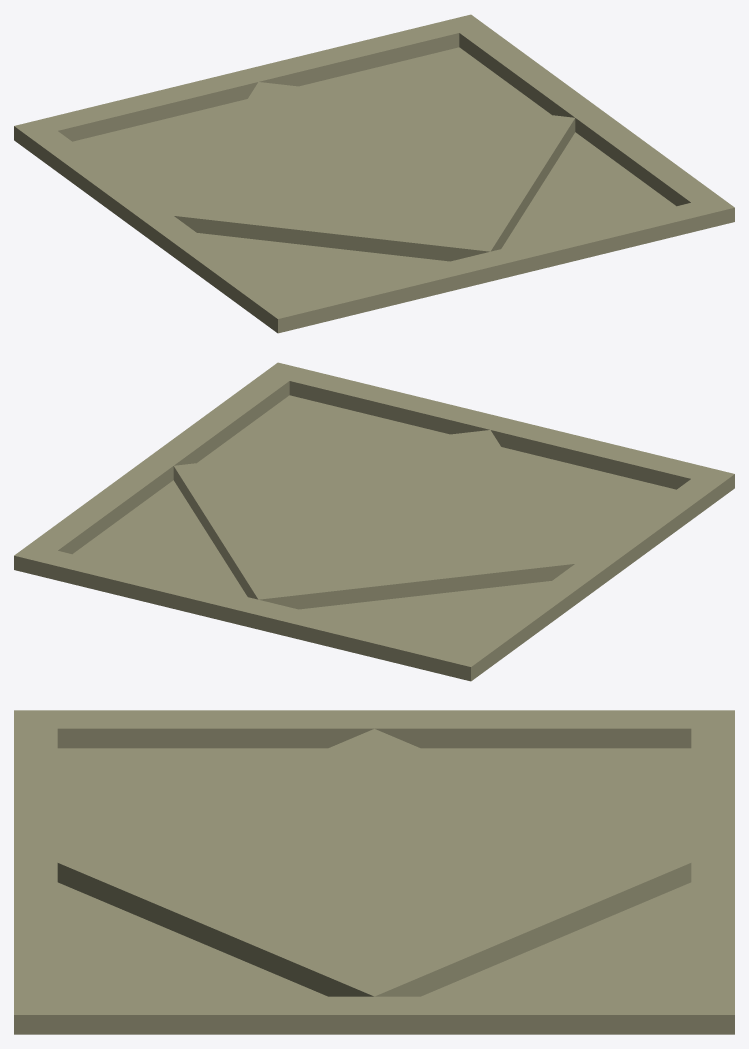
Rendered from Tile0.fbx.
3 renders of one model, top to bottom at view 1: azimuth 30°, elevation 25°; view 2: azimuth 150°, elevation 25°; view 3: azimuth 270°, elevation 25°, orthographic. The views are drawn at different scales.
Parts seen in each view (by area): view 1: Decorative_Tile; view 2: Decorative_Tile; view 3: Decorative_Tile.
Part boxes in pixels (x1=…): Decorative_Tile: x1=14, y1=14, x2=734, y2=333; Decorative_Tile: x1=14, y1=362, x2=734, y2=681; Decorative_Tile: x1=14, y1=710, x2=734, y2=1034.
Size of the model in its own units: 1 by 0.03 by 1.
